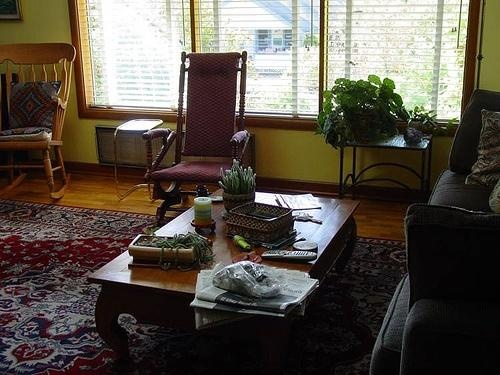chair: (139, 51, 256, 224), (2, 43, 77, 203)
pottedplant: (317, 75, 408, 149), (127, 232, 217, 274), (219, 161, 260, 214)
sofa: (371, 90, 500, 374)
